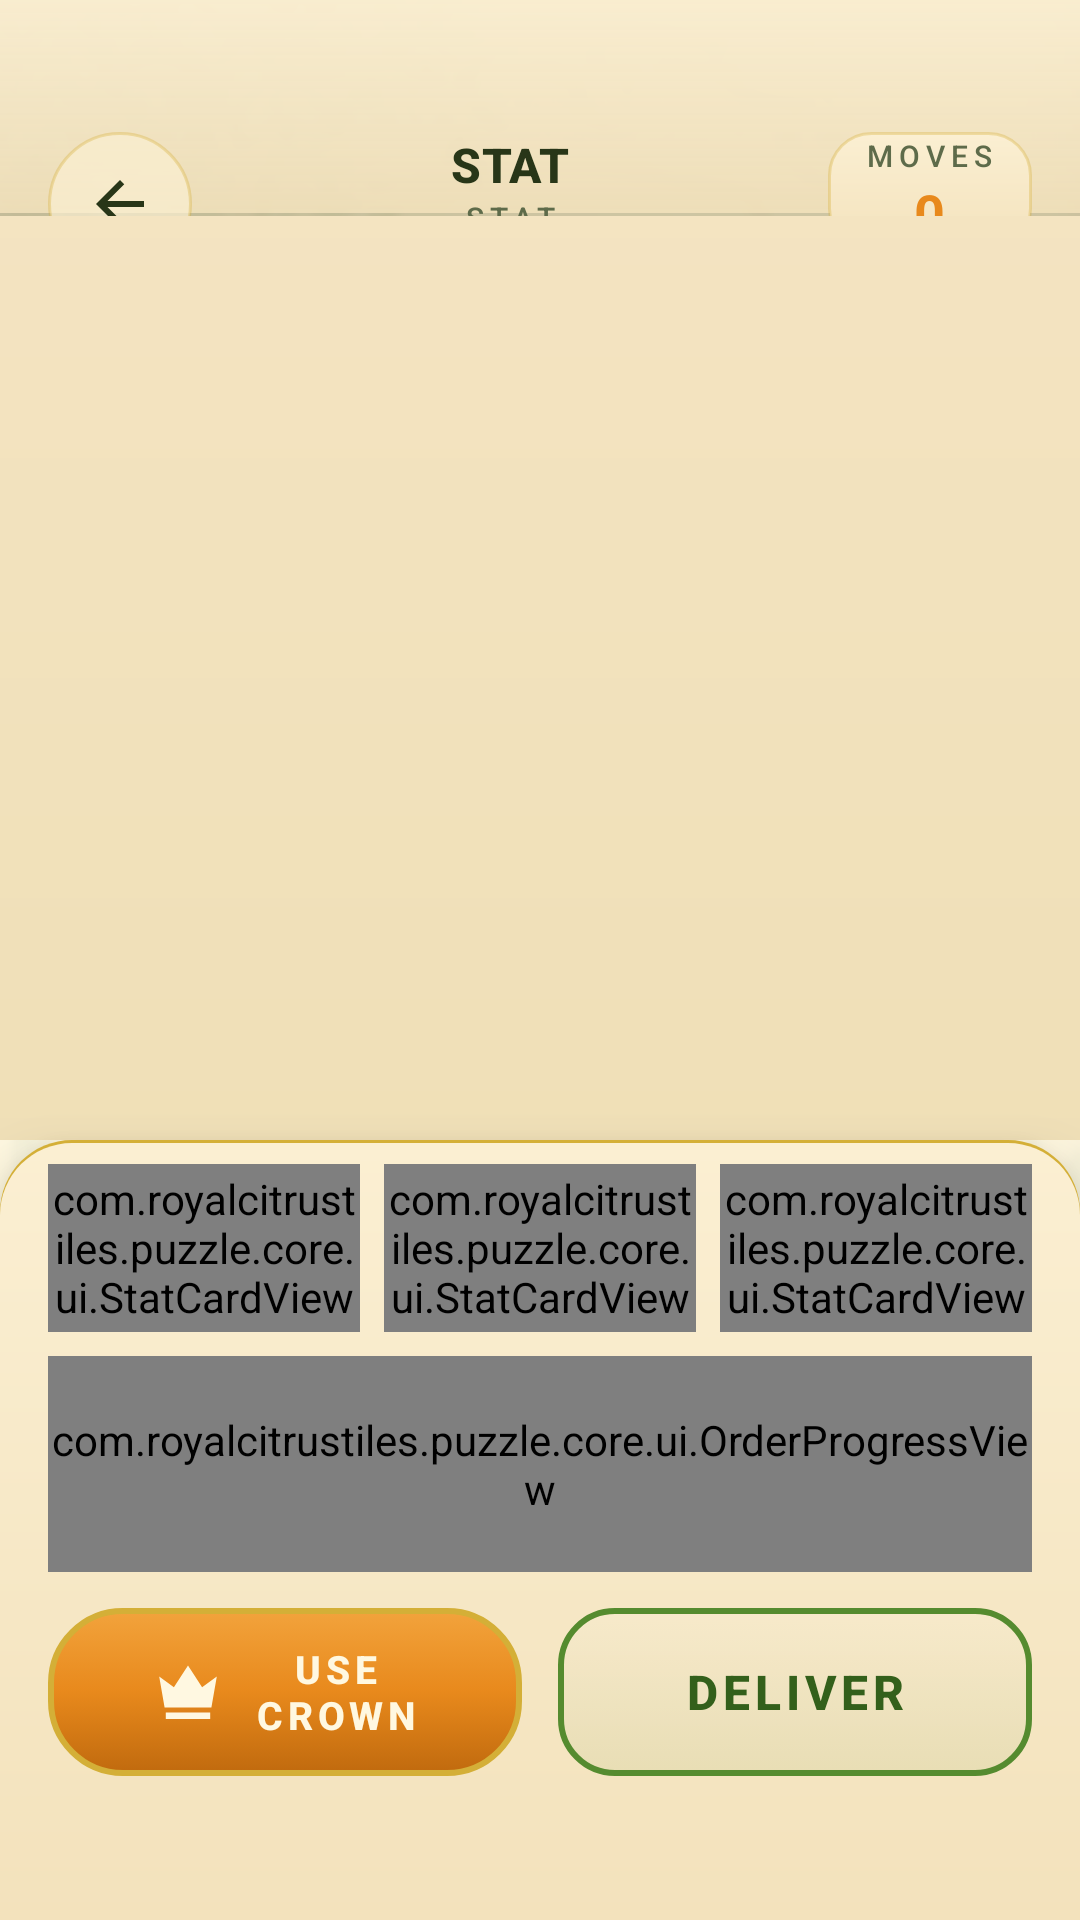

Point at icon controls on the screen. Image size 1080 x 1920, points as point (x, y).
Back to conservatory map: point (120, 174)
